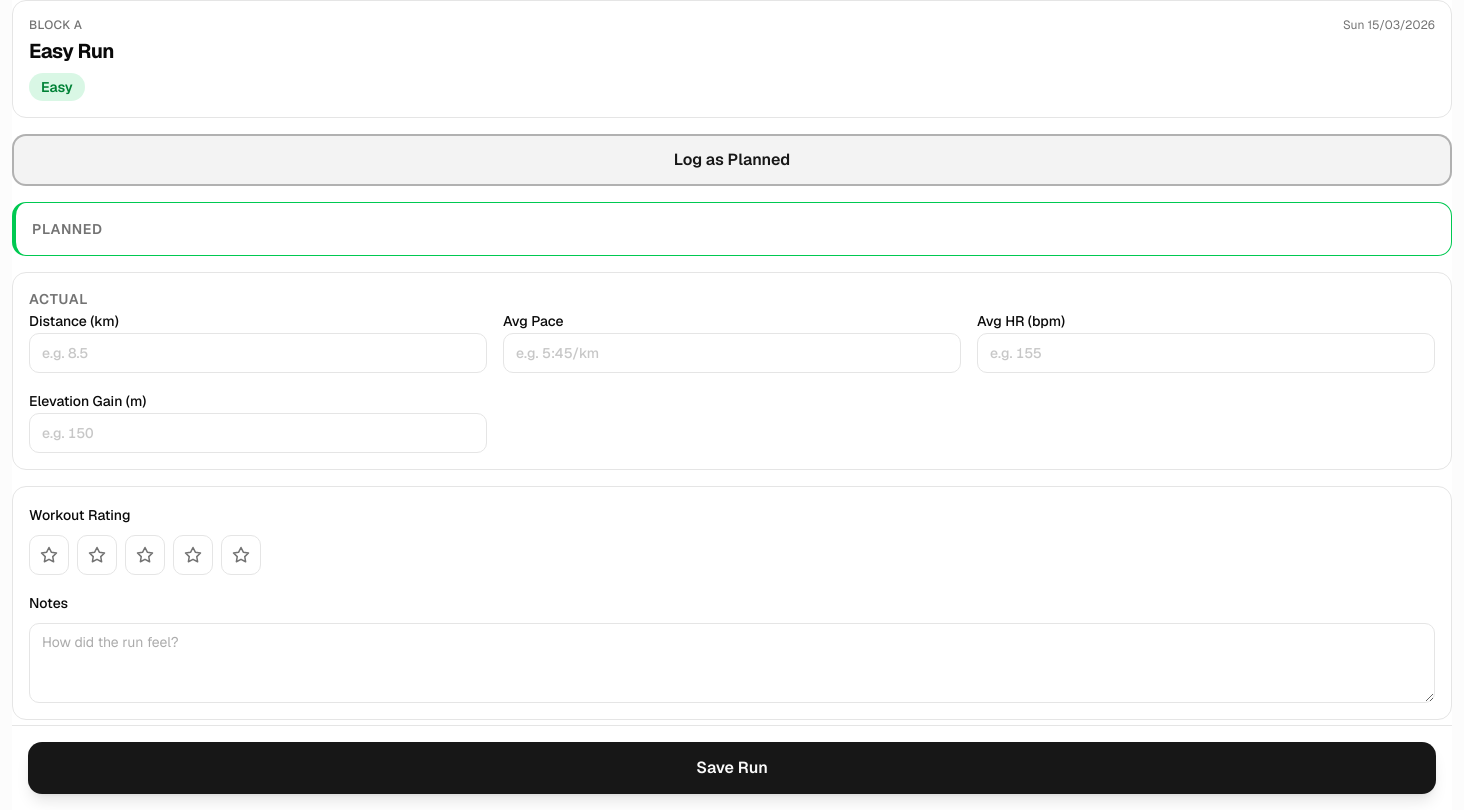
Test: RunningLoggingForm — characterization › shows client-side validation error for invalid HR
The width and height of the screenshot is (1464, 810).
Type "0" into the field with test id "actual-avg-hr" at (1206, 353), box [977, 333, 1435, 373]
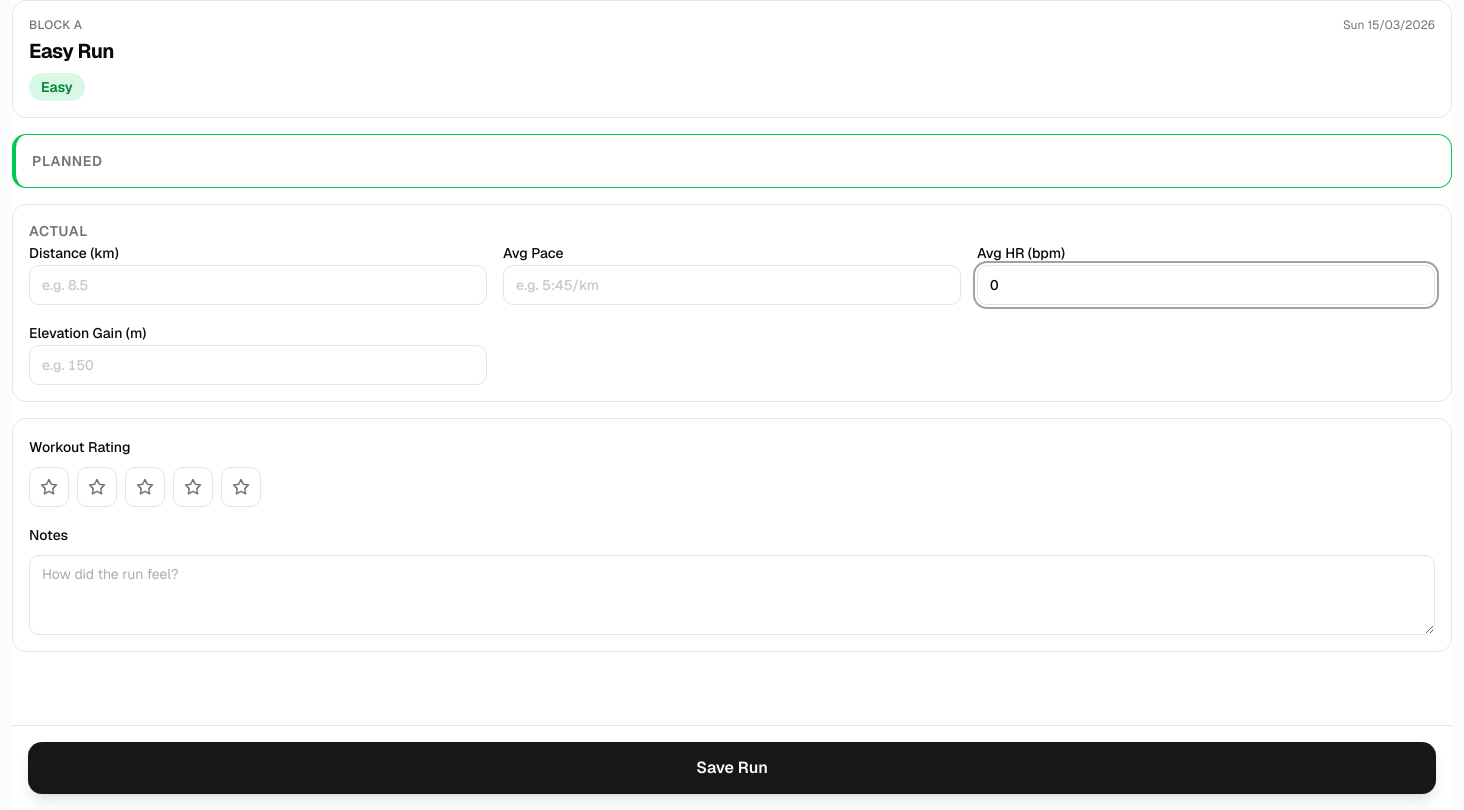
Click the button with test id "save-running-btn" at (732, 768), box [28, 742, 1436, 794]
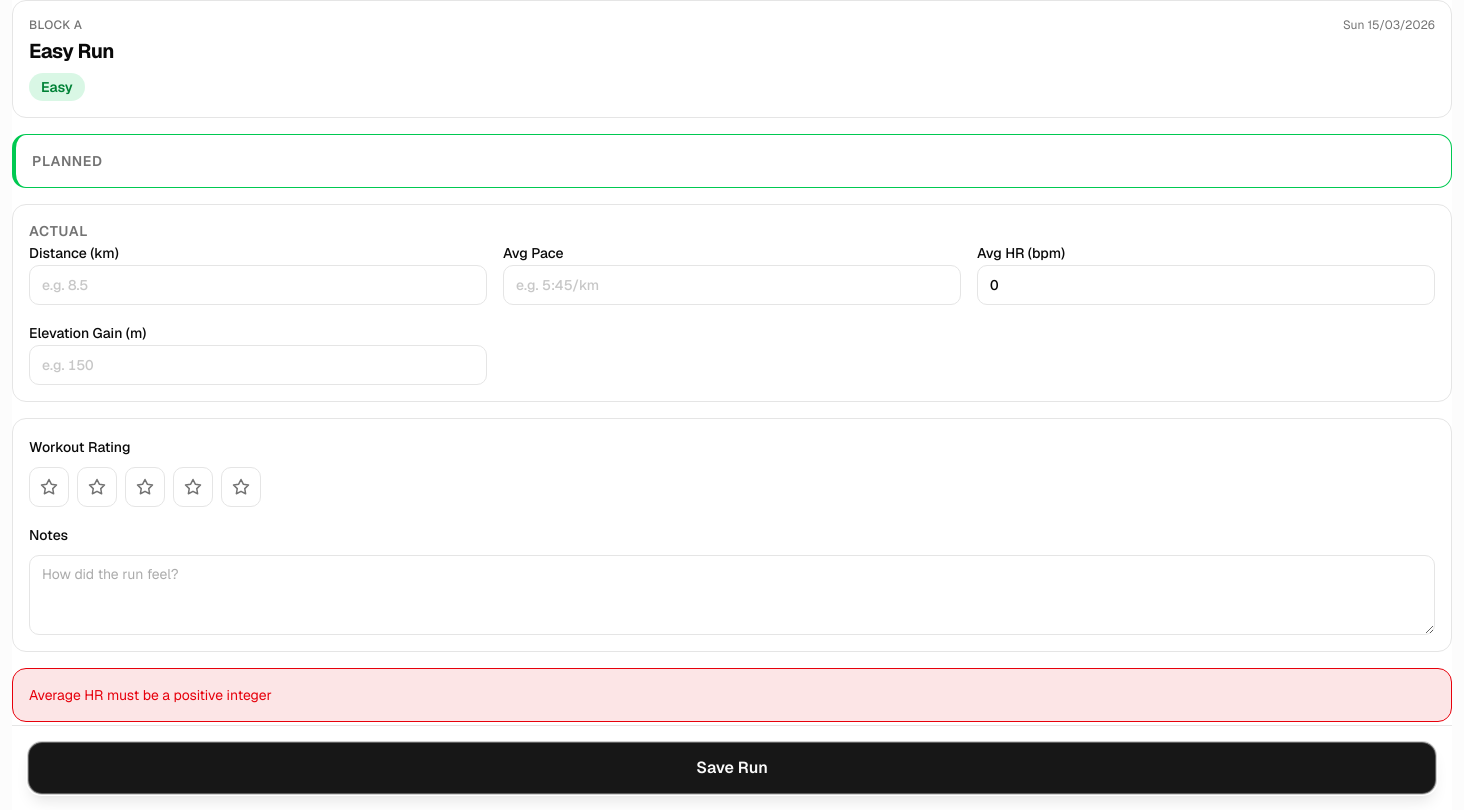
Now the element with test id "save-error" is shown, box [12, 668, 1452, 722]
Now the text "Average HR must be a positive integer" is shown, box [29, 686, 272, 704]
